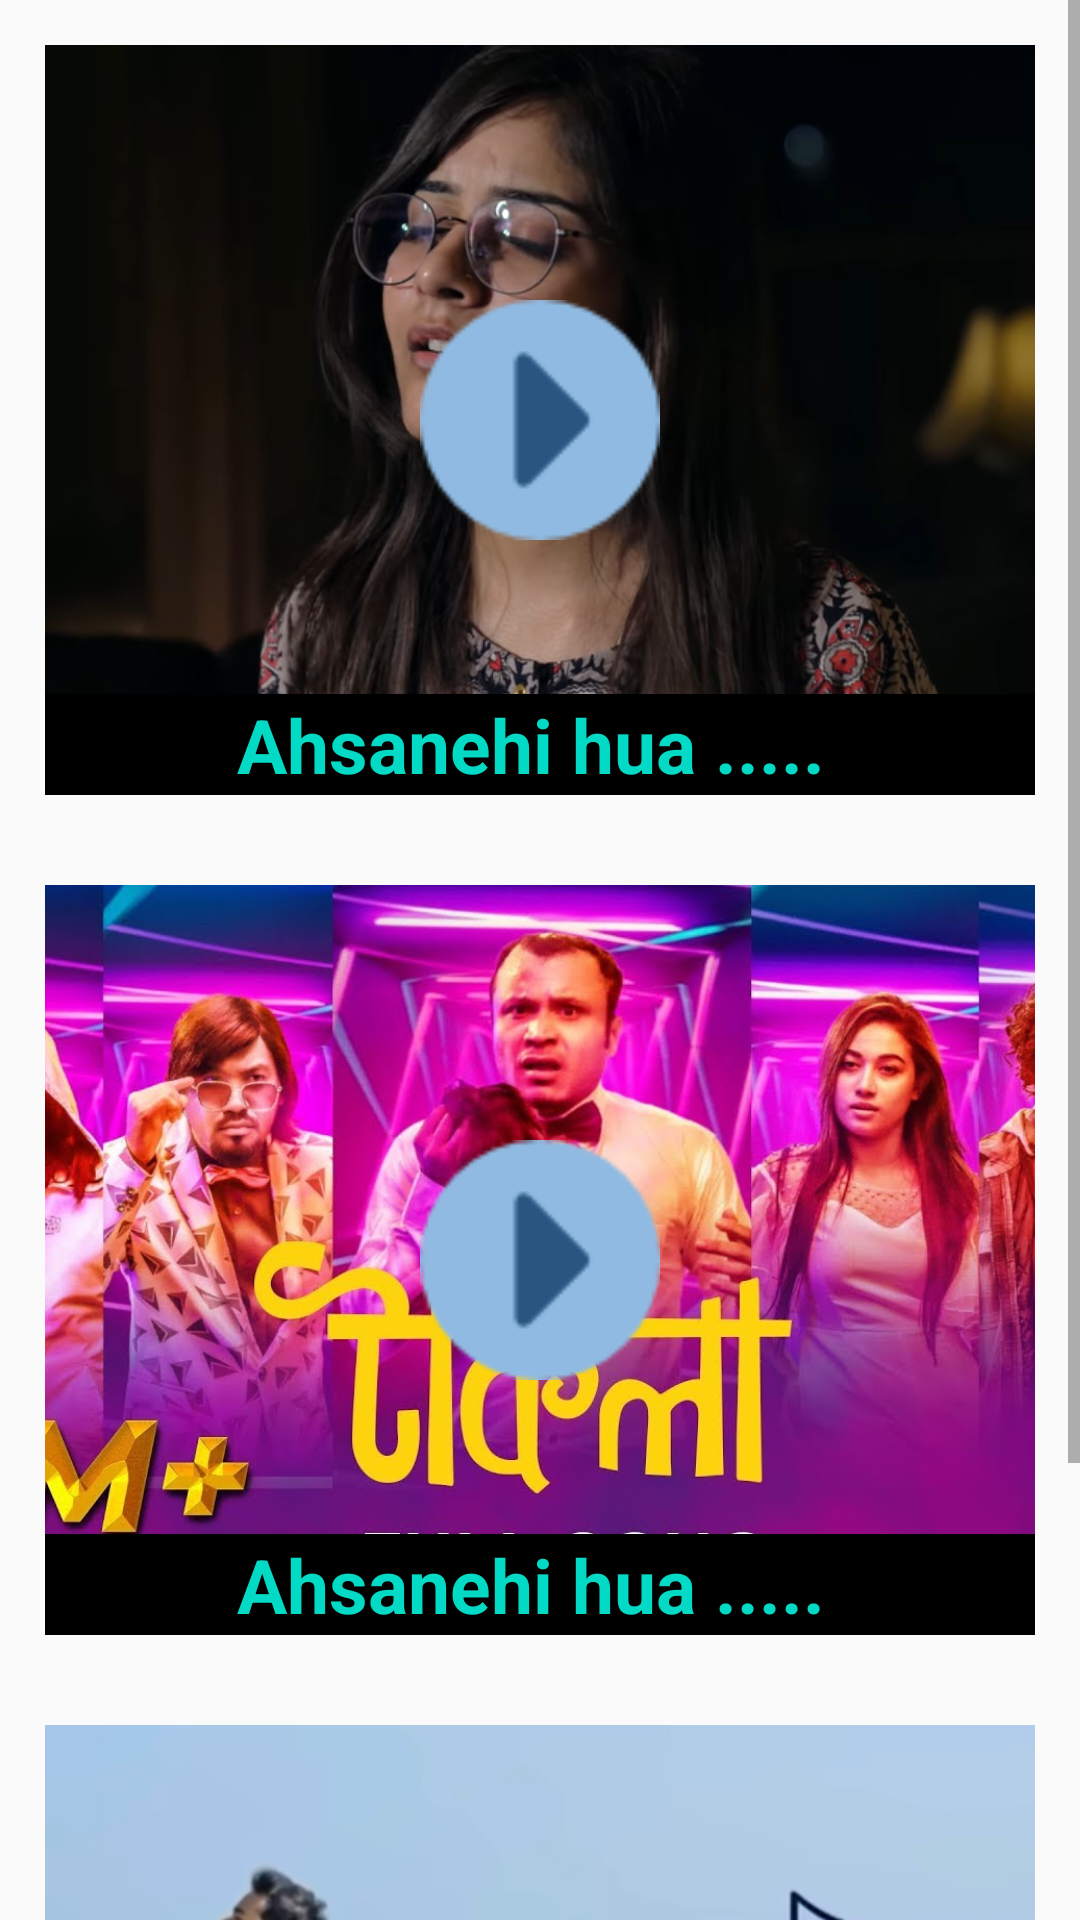

Point at icon controls on the screen. Image size 1080*1920, points as (x,y).
play: (540,420), (540,1260)
